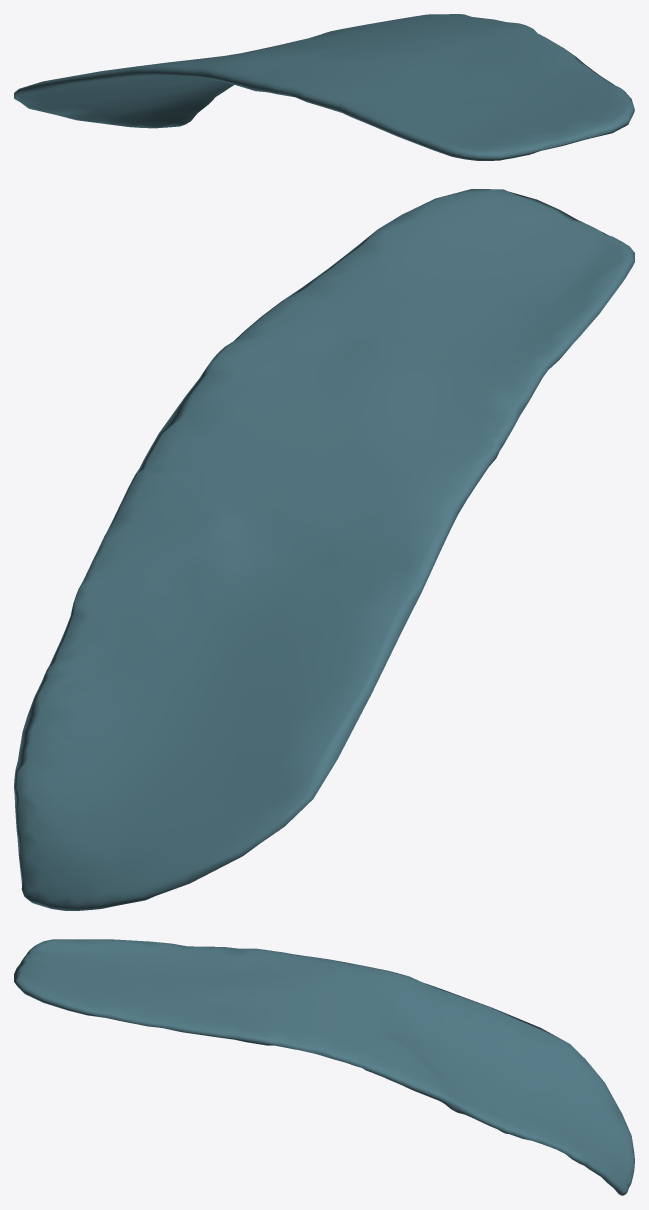
The model's file is Ascending_part_of_trapezius_muscle-Acromial_insertion.l_Generat.glb.
3 views of the same model, one above another, from view 1: azimuth 30°, elevation 25°; view 2: azimuth 150°, elevation 25°; view 3: azimuth 270°, elevation 25° (orthographic). The views are drawn at different scales.
Parts seen in each view (by area): view 1: Ascending_part_of_trapezius_muscle-Acromial_insertion.l_Gene; view 2: Ascending_part_of_trapezius_muscle-Acromial_insertion.l_Gene; view 3: Ascending_part_of_trapezius_muscle-Acromial_insertion.l_Gene.
Part boxes in pixels (x1,y1,x2,y2): Ascending_part_of_trapezius_muscle-Acromial_insertion.l_Gene: (14,14,634,160); Ascending_part_of_trapezius_muscle-Acromial_insertion.l_Gene: (14,189,634,910); Ascending_part_of_trapezius_muscle-Acromial_insertion.l_Gene: (14,939,634,1195).
Size of the model in its own units: 0.0144 by 0.0139 by 0.0355.
